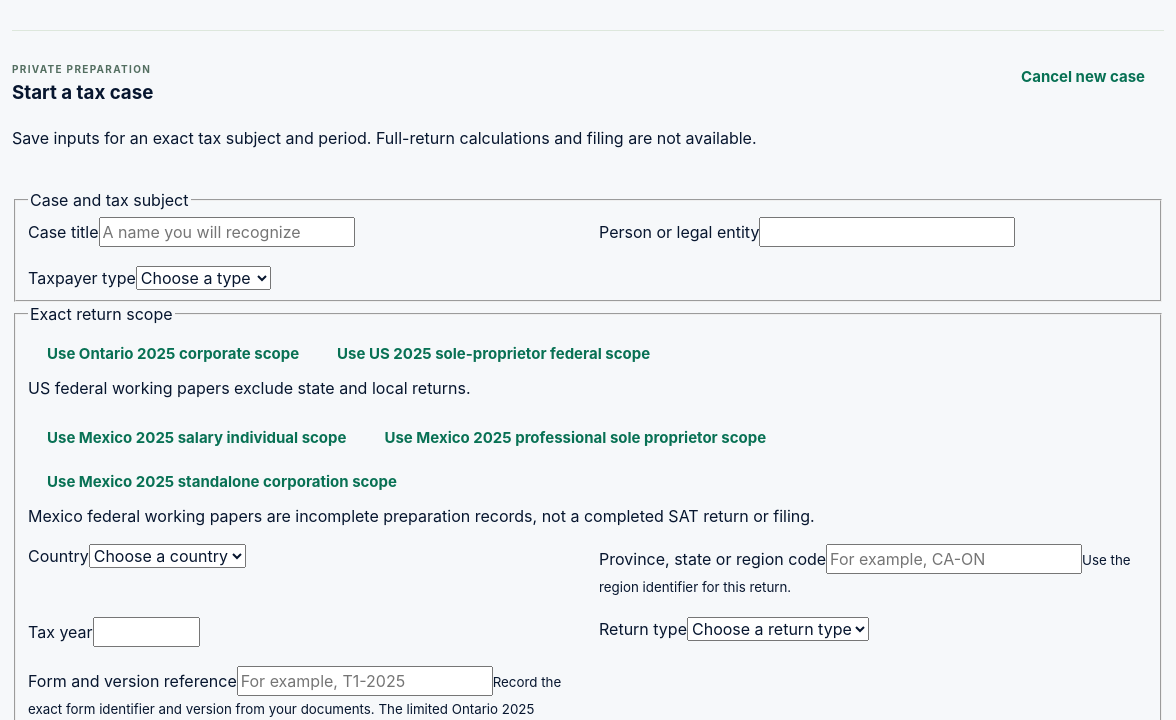
Test: private tax working-paper boundaries › sets exact Mexico salary individual scope without inventing residency
This screenshot has width=1176, height=720.
Click the button "Use Mexico 2025 salary individual scope": (197, 438) [28,416,366,460]
(page scrolled)
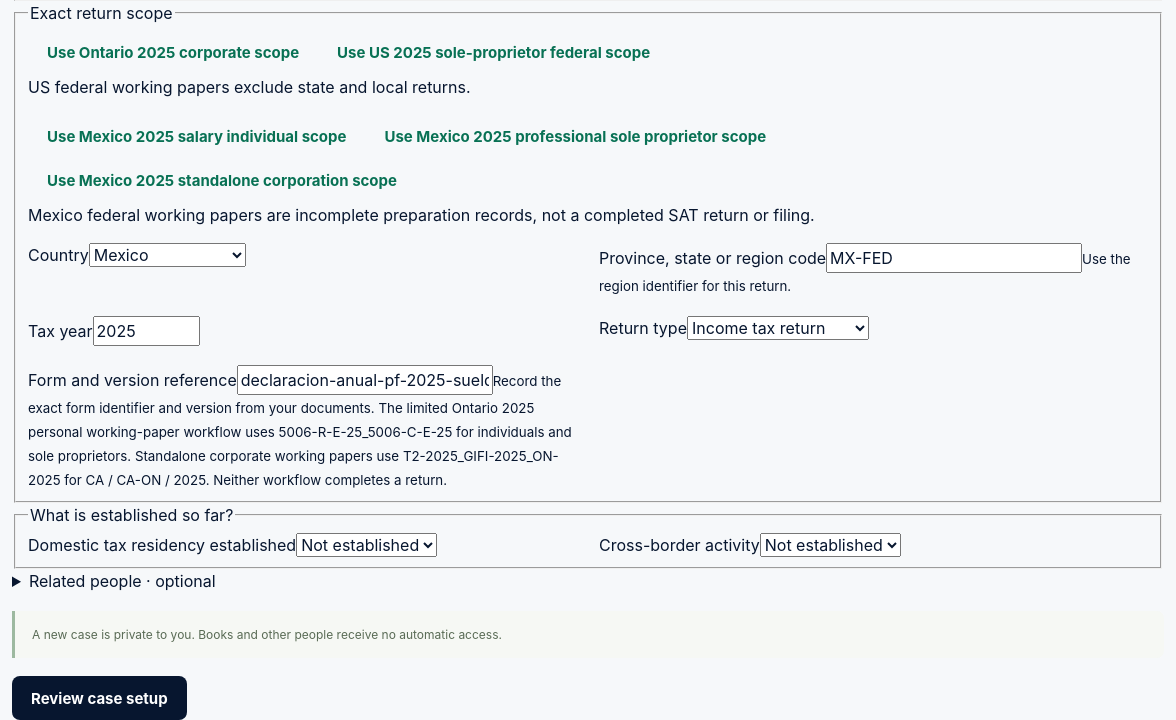
expect the dropdown labelled "Country" shows "Mexico": met, box [89,243,246,267]
expect the field labelled "Province, state or region code" holds "MX-FED": met, box [826,243,1082,273]
expect the field labelled "Form and version reference" holds "declaracion-anual-pf-2025-sueldos": met, box [237,365,493,395]
